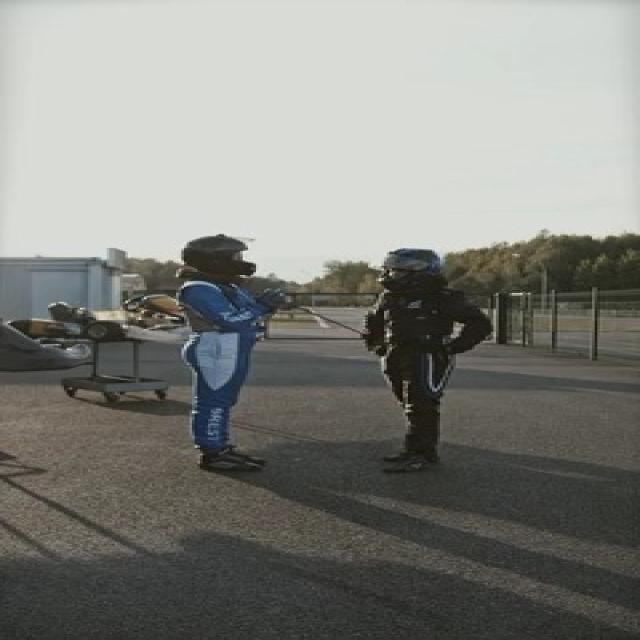Helmet_Wearer: (170, 234, 265, 278), (369, 248, 457, 290)
Jacket_Wearer: (365, 288, 491, 356)
Person: (361, 245, 495, 470), (169, 233, 293, 472)
